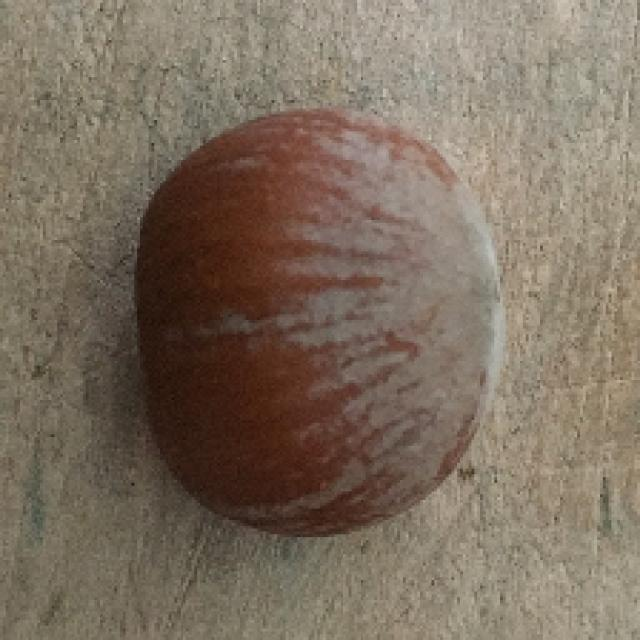qualityHazelnut: (133, 106, 510, 540)
